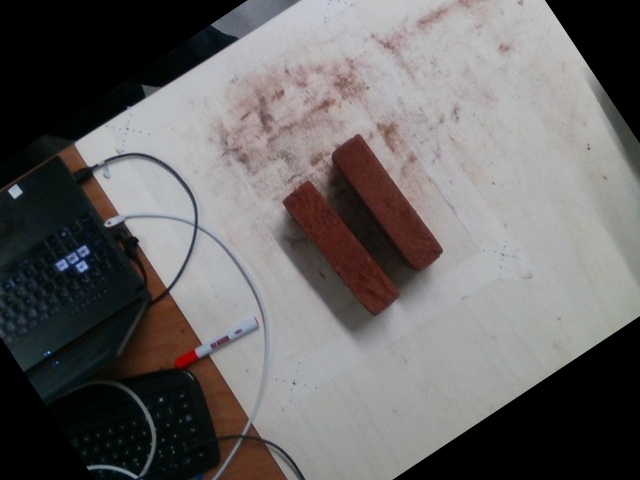brick-side: (283, 181, 401, 318), (332, 135, 442, 269)
